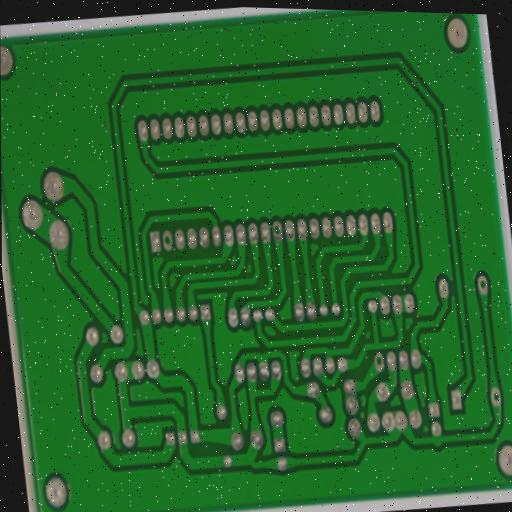missing_hole: (473, 271, 493, 299), (268, 217, 286, 244), (160, 227, 177, 255), (370, 350, 386, 376), (488, 385, 504, 410)
